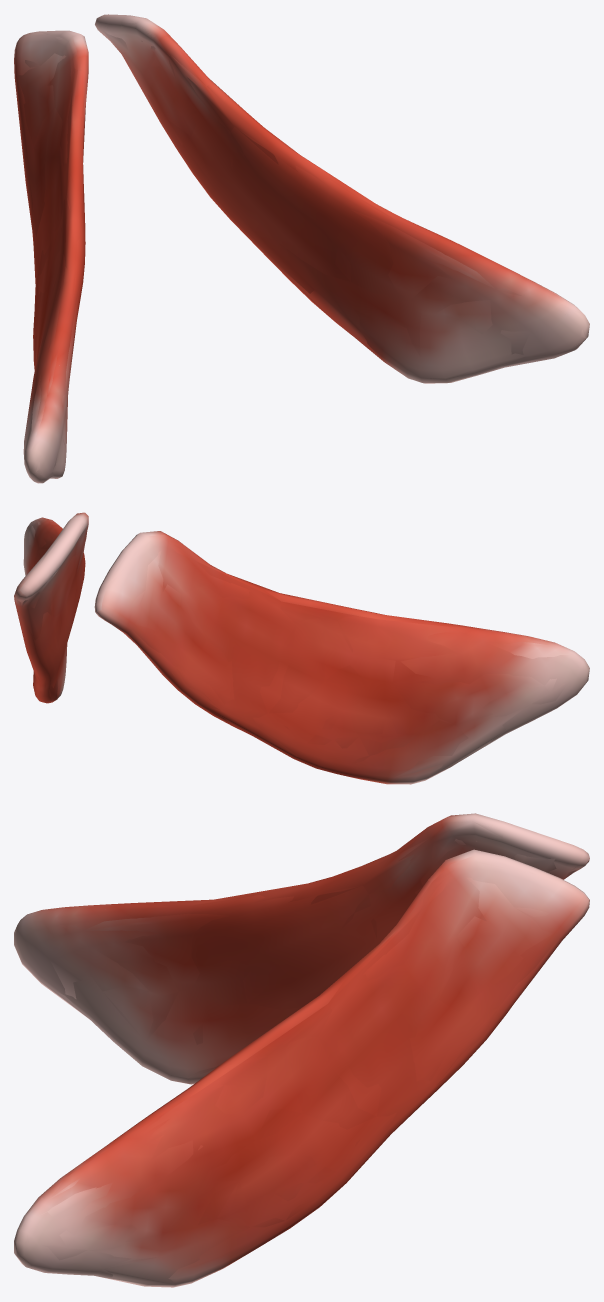
Rendered from Coccygeus.fbx.
3 views of the same model, one above another, from view 1: azimuth 30°, elevation 25°; view 2: azimuth 150°, elevation 25°; view 3: azimuth 270°, elevation 25° (orthographic). The views are drawn at different scales.
Parts seen in each view (by area): view 1: Coccygeus, Coccygeus low; view 2: Coccygeus, Coccygeus low; view 3: Coccygeus, Coccygeus low.
Part boxes in pixels (x1,y1,x2,y2): Coccygeus: [14, 14, 589, 483]; Coccygeus low: [15, 14, 585, 482]; Coccygeus: [14, 512, 589, 784]; Coccygeus low: [15, 513, 583, 781]; Coccygeus: [14, 813, 589, 1287]; Coccygeus low: [14, 813, 588, 1287].
Bounding box in the file's own units: 21.05 × 10.95 × 16.27.
